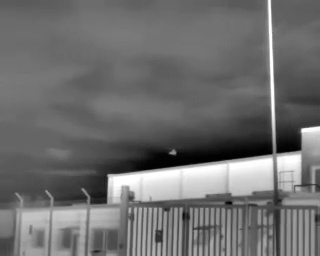HELICOPTER: (165, 145, 181, 159)
